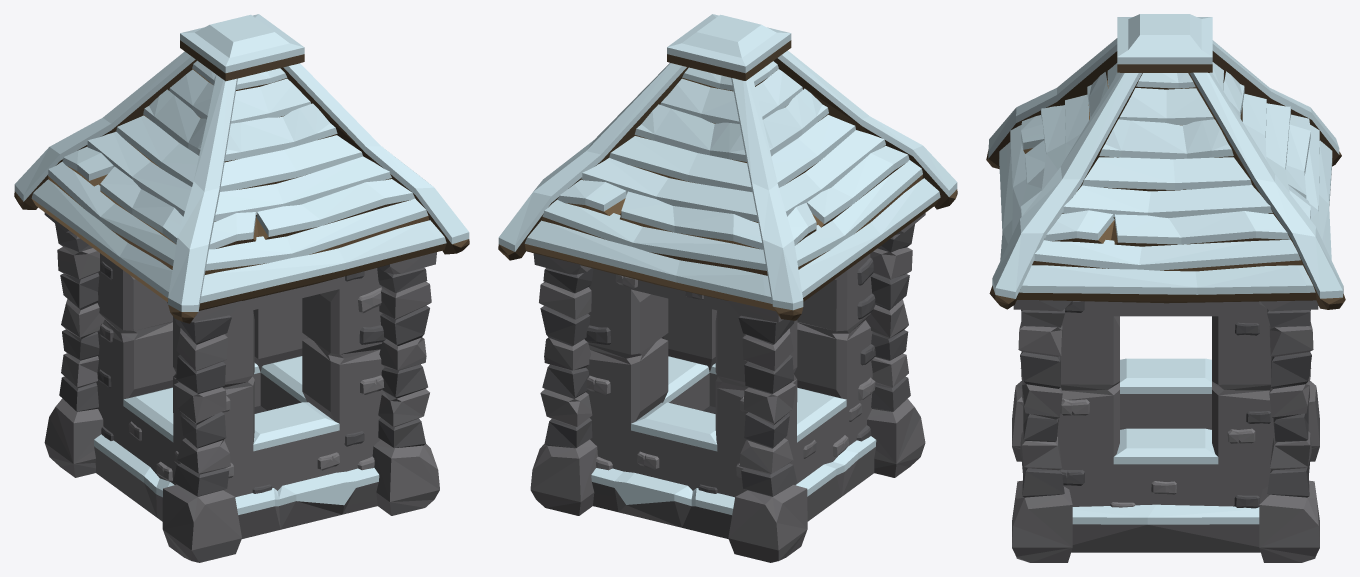
Rendered from SM_Bld_Church_Tower_02_Snow.glb.
3 views of the same model, side by side, from view 1: azimuth 30°, elevation 25°; view 2: azimuth 150°, elevation 25°; view 3: azimuth 270°, elevation 25° (orthographic). The views are drawn at different scales.
Parts seen in each view (by area): view 1: SM_Bld_Church_Tower_02_Snow; view 2: SM_Bld_Church_Tower_02_Snow; view 3: SM_Bld_Church_Tower_02_Snow.
Boxes of the visible parts, <box> form: SM_Bld_Church_Tower_02_Snow: <box>14,14,469,562</box>; SM_Bld_Church_Tower_02_Snow: <box>498,14,957,562</box>; SM_Bld_Church_Tower_02_Snow: <box>986,14,1345,562</box>.
Bounding box in the file's own units: 3.59 × 5.2 × 3.56.
1 material, 1 textured.
